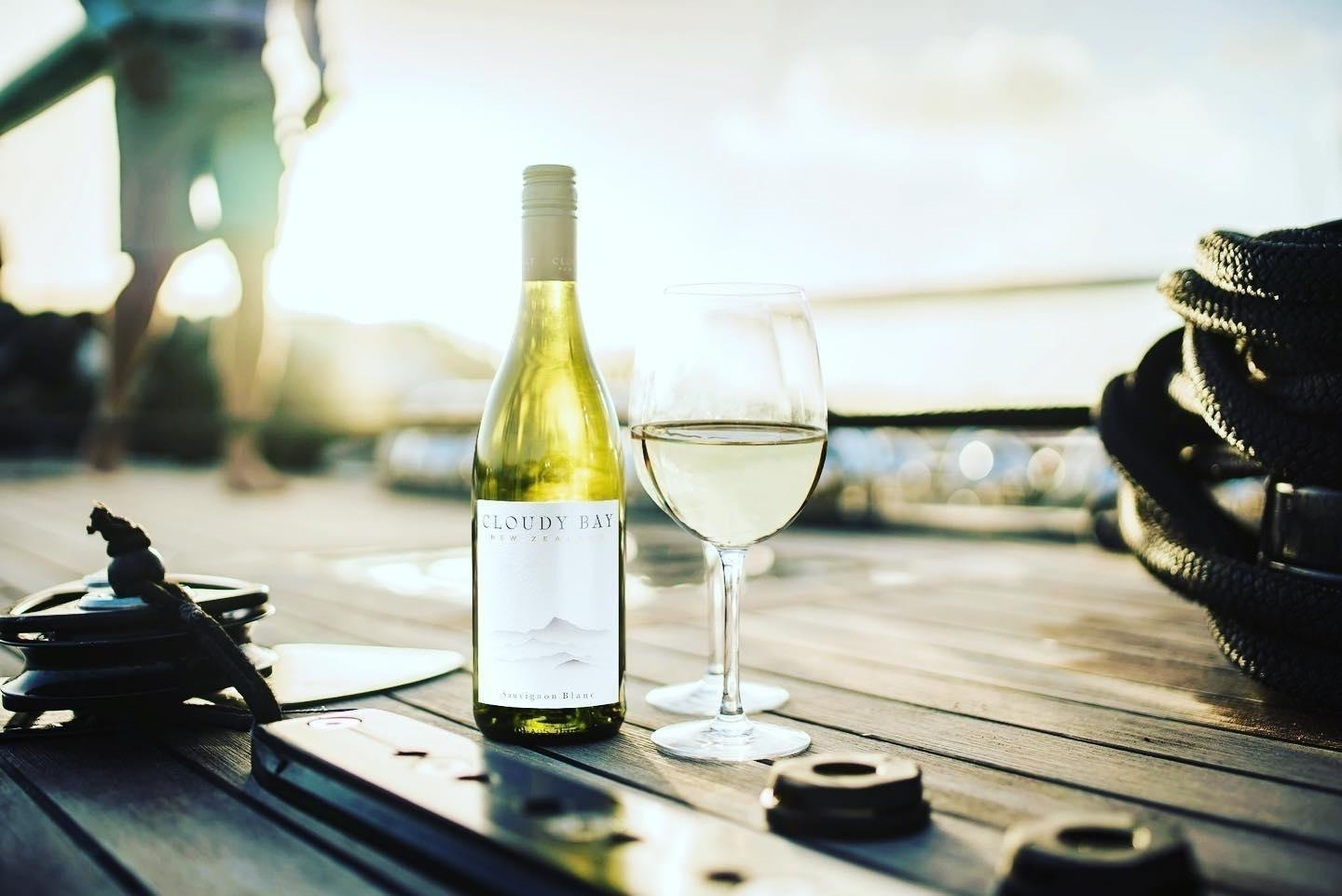bottle-glass: (460, 153, 642, 749)
glass-wine: (628, 274, 837, 765)
